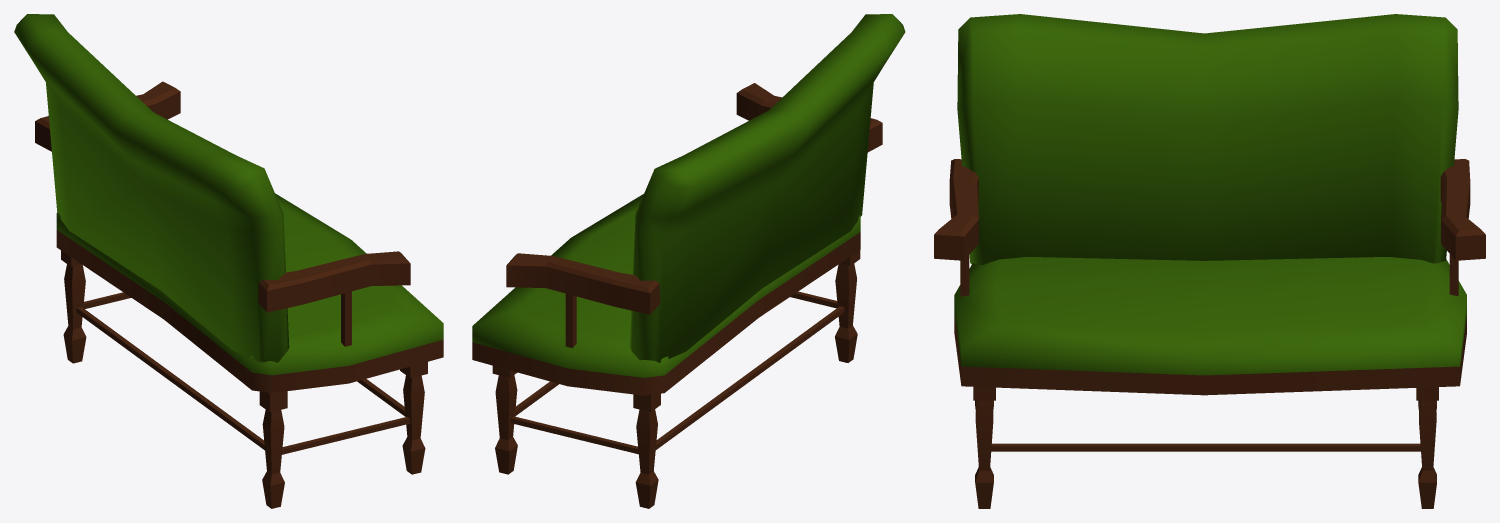
The model's file is Sofa-Wooden-Classic_01.fbx.
3 views of the same model, side by side, from view 1: azimuth 30°, elevation 25°; view 2: azimuth 150°, elevation 25°; view 3: azimuth 270°, elevation 25° (orthographic). The views are drawn at different scales.
Visible parts, largest first — view 1: Sofa_02; view 2: Sofa_02; view 3: Sofa_02.
Boxes of the visible parts, x1,y1,x2,y2 form: Sofa_02: (14,14,443,508); Sofa_02: (472,14,905,508); Sofa_02: (934,14,1485,508).
Bounding box in the file's own units: 0.8612 × 1.21 × 1.55.
